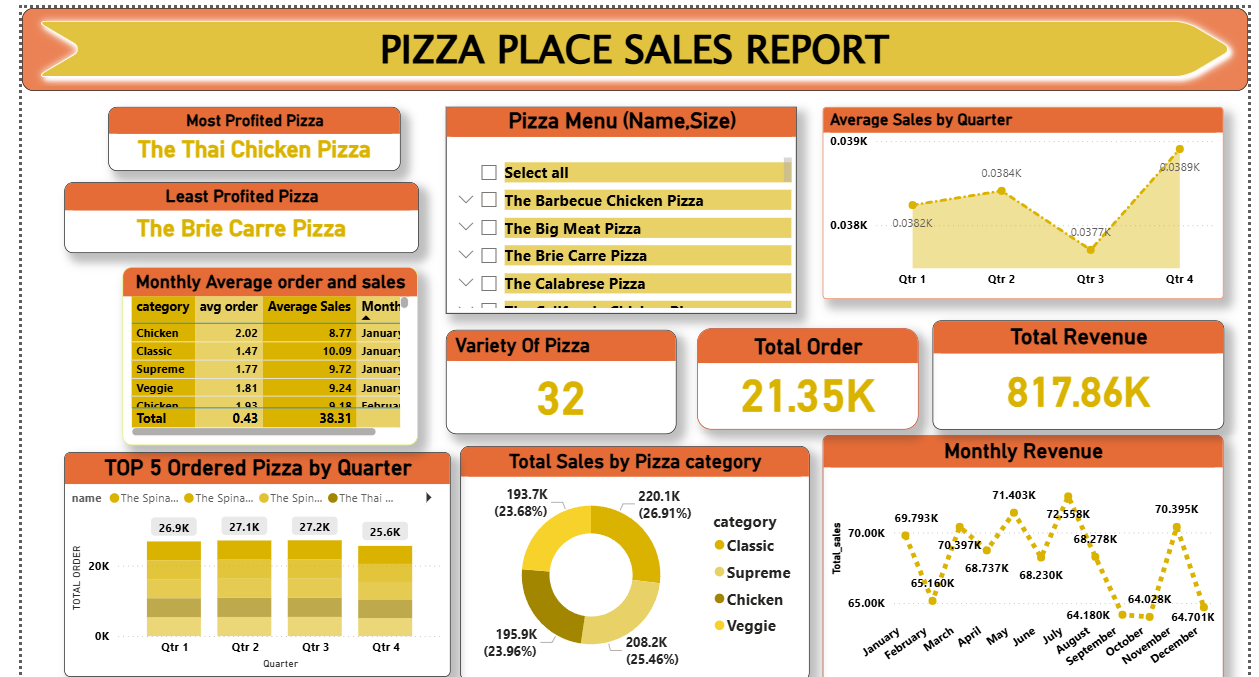

The dashboard page shown, as its layout file describes it:
{"tool":"powerbi","page":{"name":"Pizza Place Dashboard","canvas":[1280,720],"ordinal":0},"visuals":[{"type":"shape","box":[0,0,1280,86.7],"z":0},{"type":"lineChart","title":"Monthly Revenue","fields":{"Y":["order_details.Total_sales"],"Category":["orders.date.Variation.Date Hierarchy.Month"]},"box":[836.9,445.2,418.4,266.1],"z":1000},{"type":"card","title":"Total Order","fields":{"Values":["orders.TOTAL ORDER"]},"box":[704.6,334.7,231,105.4],"z":2000},{"type":"card","title":"Total Revenue","fields":{"Values":["order_details.Total_sales"]},"box":[950.7,326.4,304.6,113.8],"z":3000},{"type":"card","title":"Variety Of Pizza","fields":{"Values":["pizza_types.Variety_of_Pizza"]},"box":[441.9,336.4,241,108.8],"z":4000},{"type":"slicer","title":"Pizza Menu (Name,Size)","fields":{"Values":["pizza_types.name","pizzas.size"]},"box":[441.9,103.8,366.6,215.9],"z":5000},{"type":"donutChart","title":"Total Sales by Pizza category","fields":{"Category":["pizza_types.category"],"Y":["order_details.Total_sales"]},"box":[456.8,456.8,364.8,246.5],"z":6000},{"type":"card","title":" Most Profited Pizza","fields":{"Values":["pizza_types.Most Revenue genretated Pizza name"]},"box":[90,103.3,305,66.7],"z":7000},{"type":"card","title":"Least Profited Pizza","fields":{"Values":["pizza_types.Least profited Pizza_Name"]},"box":[43.5,182.4,369.9,73.6],"z":8000},{"type":"columnChart","title":"TOP 5 Ordered Pizza by Quarter","fields":{"Category":["orders.date.Variation.Date Hierarchy.Quarter"],"Y":["orders.TOTAL ORDER"],"Series":["pizza_types.name"]},"box":[43.5,463.6,403.4,234.3],"z":9000},{"type":"tableEx","title":"Monthly Average order and sales","fields":{"Values":["pizza_types.category","orders.avg order","order_details.Average Sales","orders.date.Variation.Date Hierarchy.Month"]},"box":[105.4,271.1,308,185.8],"z":10000},{"type":"areaChart","fields":{"Category":["orders.date.Variation.Date Hierarchy.Quarter"],"Y":["order_details.Average Sales"]},"box":[836.9,103.8,418.4,200.8],"z":11000}]}

Visuals, with their boxes in screenshot pixels (x1, y1, x2, y2):
shape: 20:0:1247:83
"Monthly Revenue" lineChart: 822:427:1224:676
"Total Order" card: 695:321:917:422
"Total Revenue" card: 931:313:1224:422
"Variety Of Pizza" card: 443:323:675:427
"Pizza Menu (Name,Size)" slicer: 443:100:795:307
"Total Sales by Pizza category" donutChart: 458:438:808:675
" Most Profited Pizza" card: 106:99:399:163
"Least Profited Pizza" card: 61:175:416:246
"TOP 5 Ordered Pizza by Quarter" columnChart: 61:445:448:669
"Monthly Average order and sales" tableEx: 121:260:416:438
areaChart - orders.date.Variation.Date Hierarchy.Quarter x order_details.Average Sales: 822:100:1224:292
